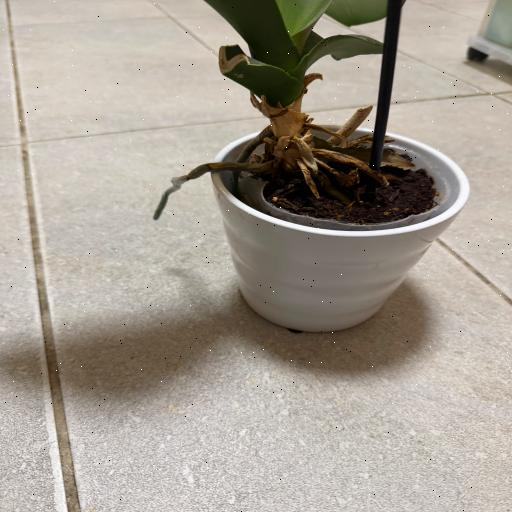Plant Pot: (210, 121, 472, 334)
